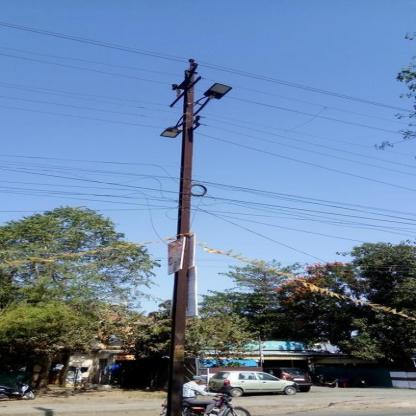Electrical Pole: (135, 51, 233, 415)
